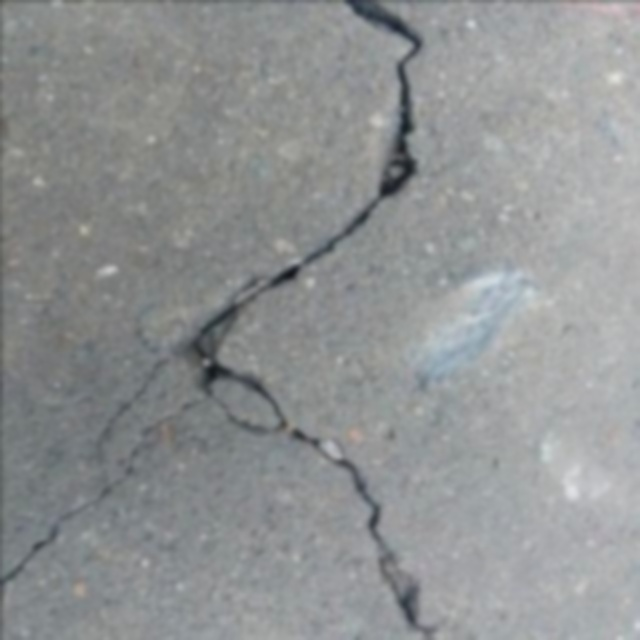SurfaceCrack: (80, 0, 478, 420), (142, 310, 446, 640)
